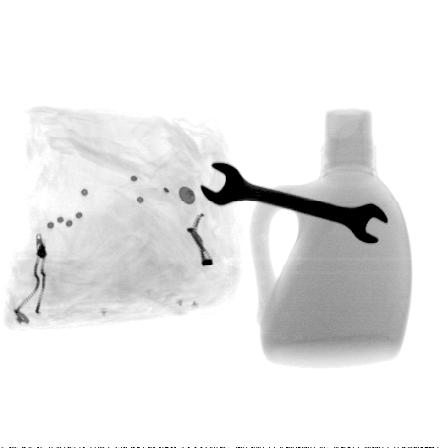Wrench: (199, 161, 389, 244)
